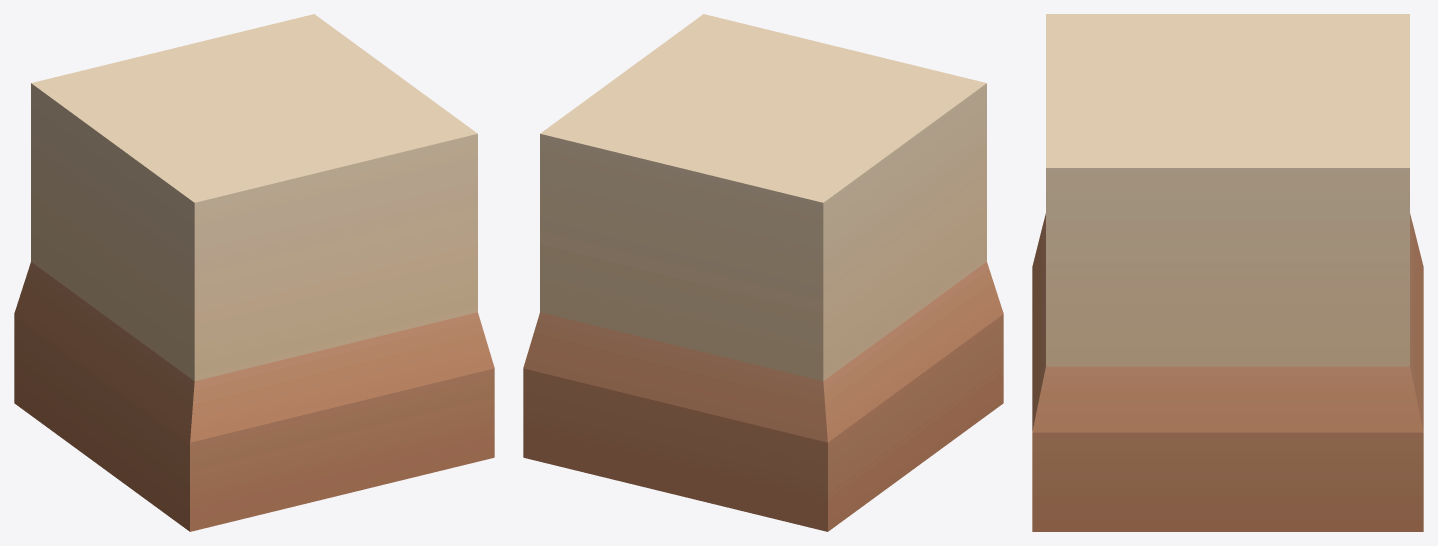
Rendered from kenney-castle-tower-square-base.glb.
3 views of the same model, side by side, from view 1: azimuth 30°, elevation 25°; view 2: azimuth 150°, elevation 25°; view 3: azimuth 270°, elevation 25° (orthographic). The views are drawn at different scales.
Visible parts, largest first — view 1: tower-square-base; view 2: tower-square-base; view 3: tower-square-base.
Part boxes in pixels (x1=…): tower-square-base: x1=14, y1=14, x2=494, y2=531; tower-square-base: x1=523, y1=14, x2=1003, y2=531; tower-square-base: x1=1032, y1=14, x2=1423, y2=531.
Size of the model in its own units: 1 by 1.01 by 1.
1 material, 1 textured.
